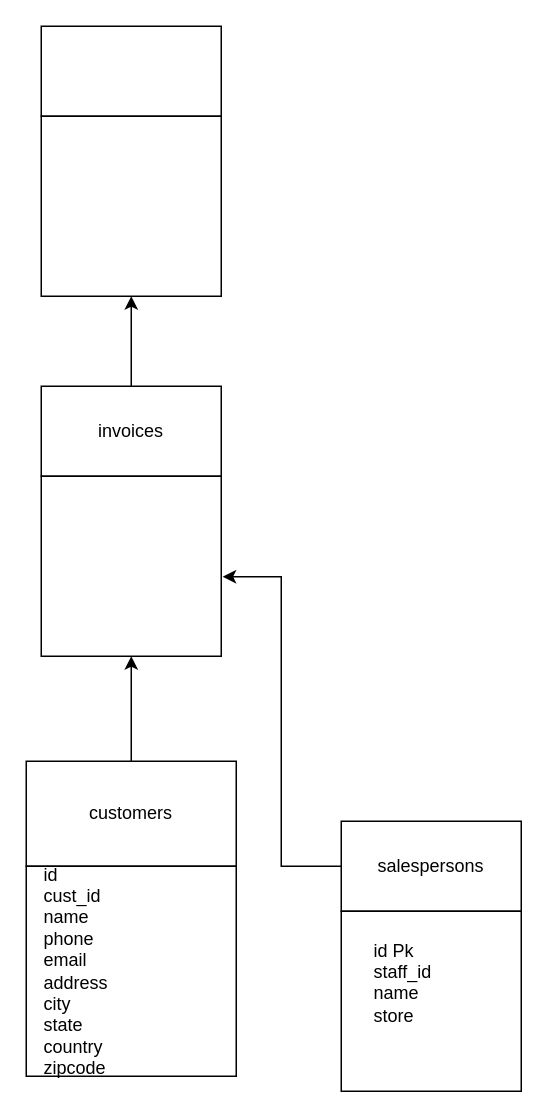
Image size: 548x1118. Some labels were removed from this diagram. The centre of each missing label's shape, as x and y in pixels:
"cars" belongs at [130,70].
"id Pk invoice_number date car customer salesperson" belongs at [130,565].
"id PK vin UNIQUE mamnufacturer model year color" belongs at [130,205].
